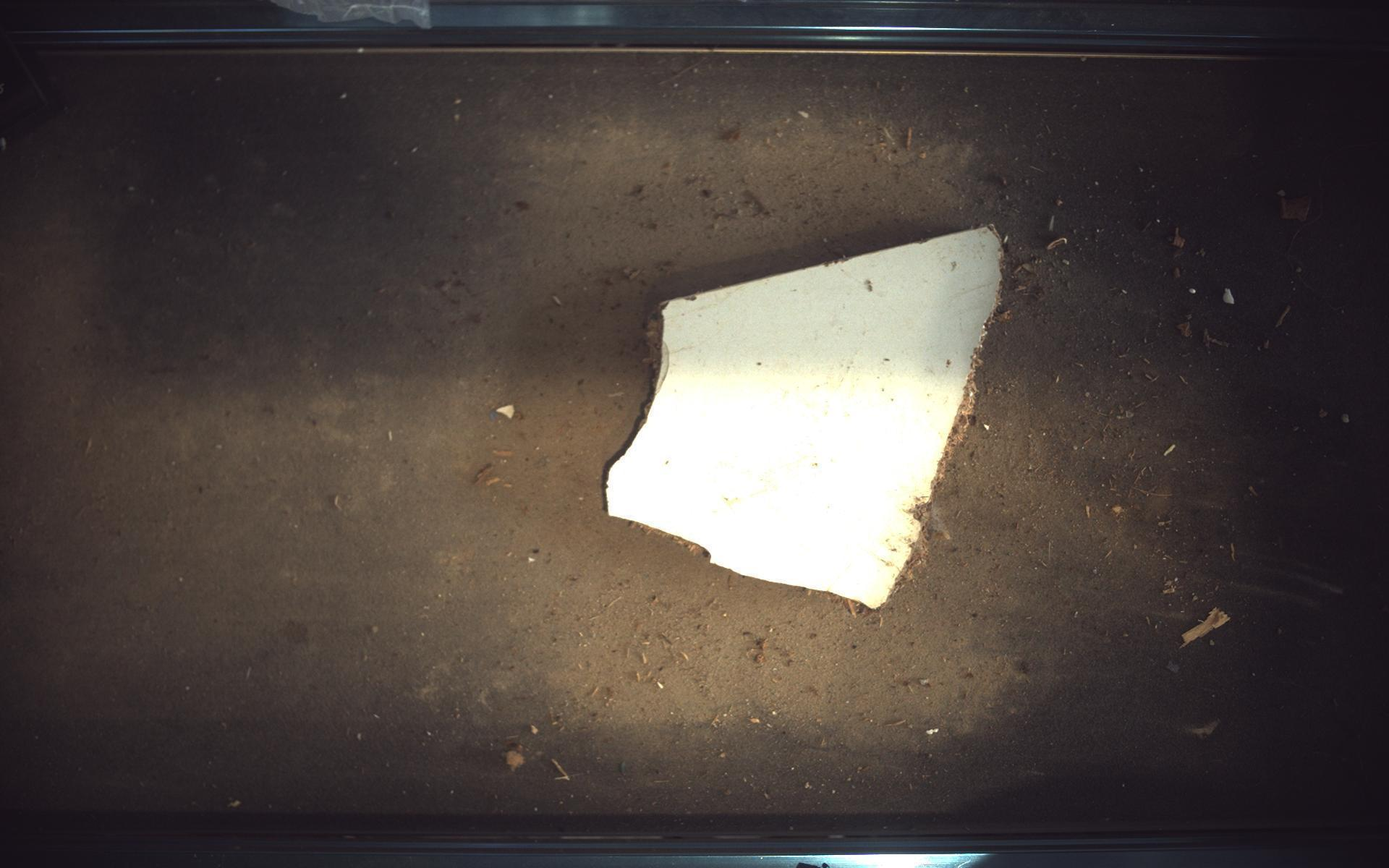wood: (606, 226, 1005, 609)
